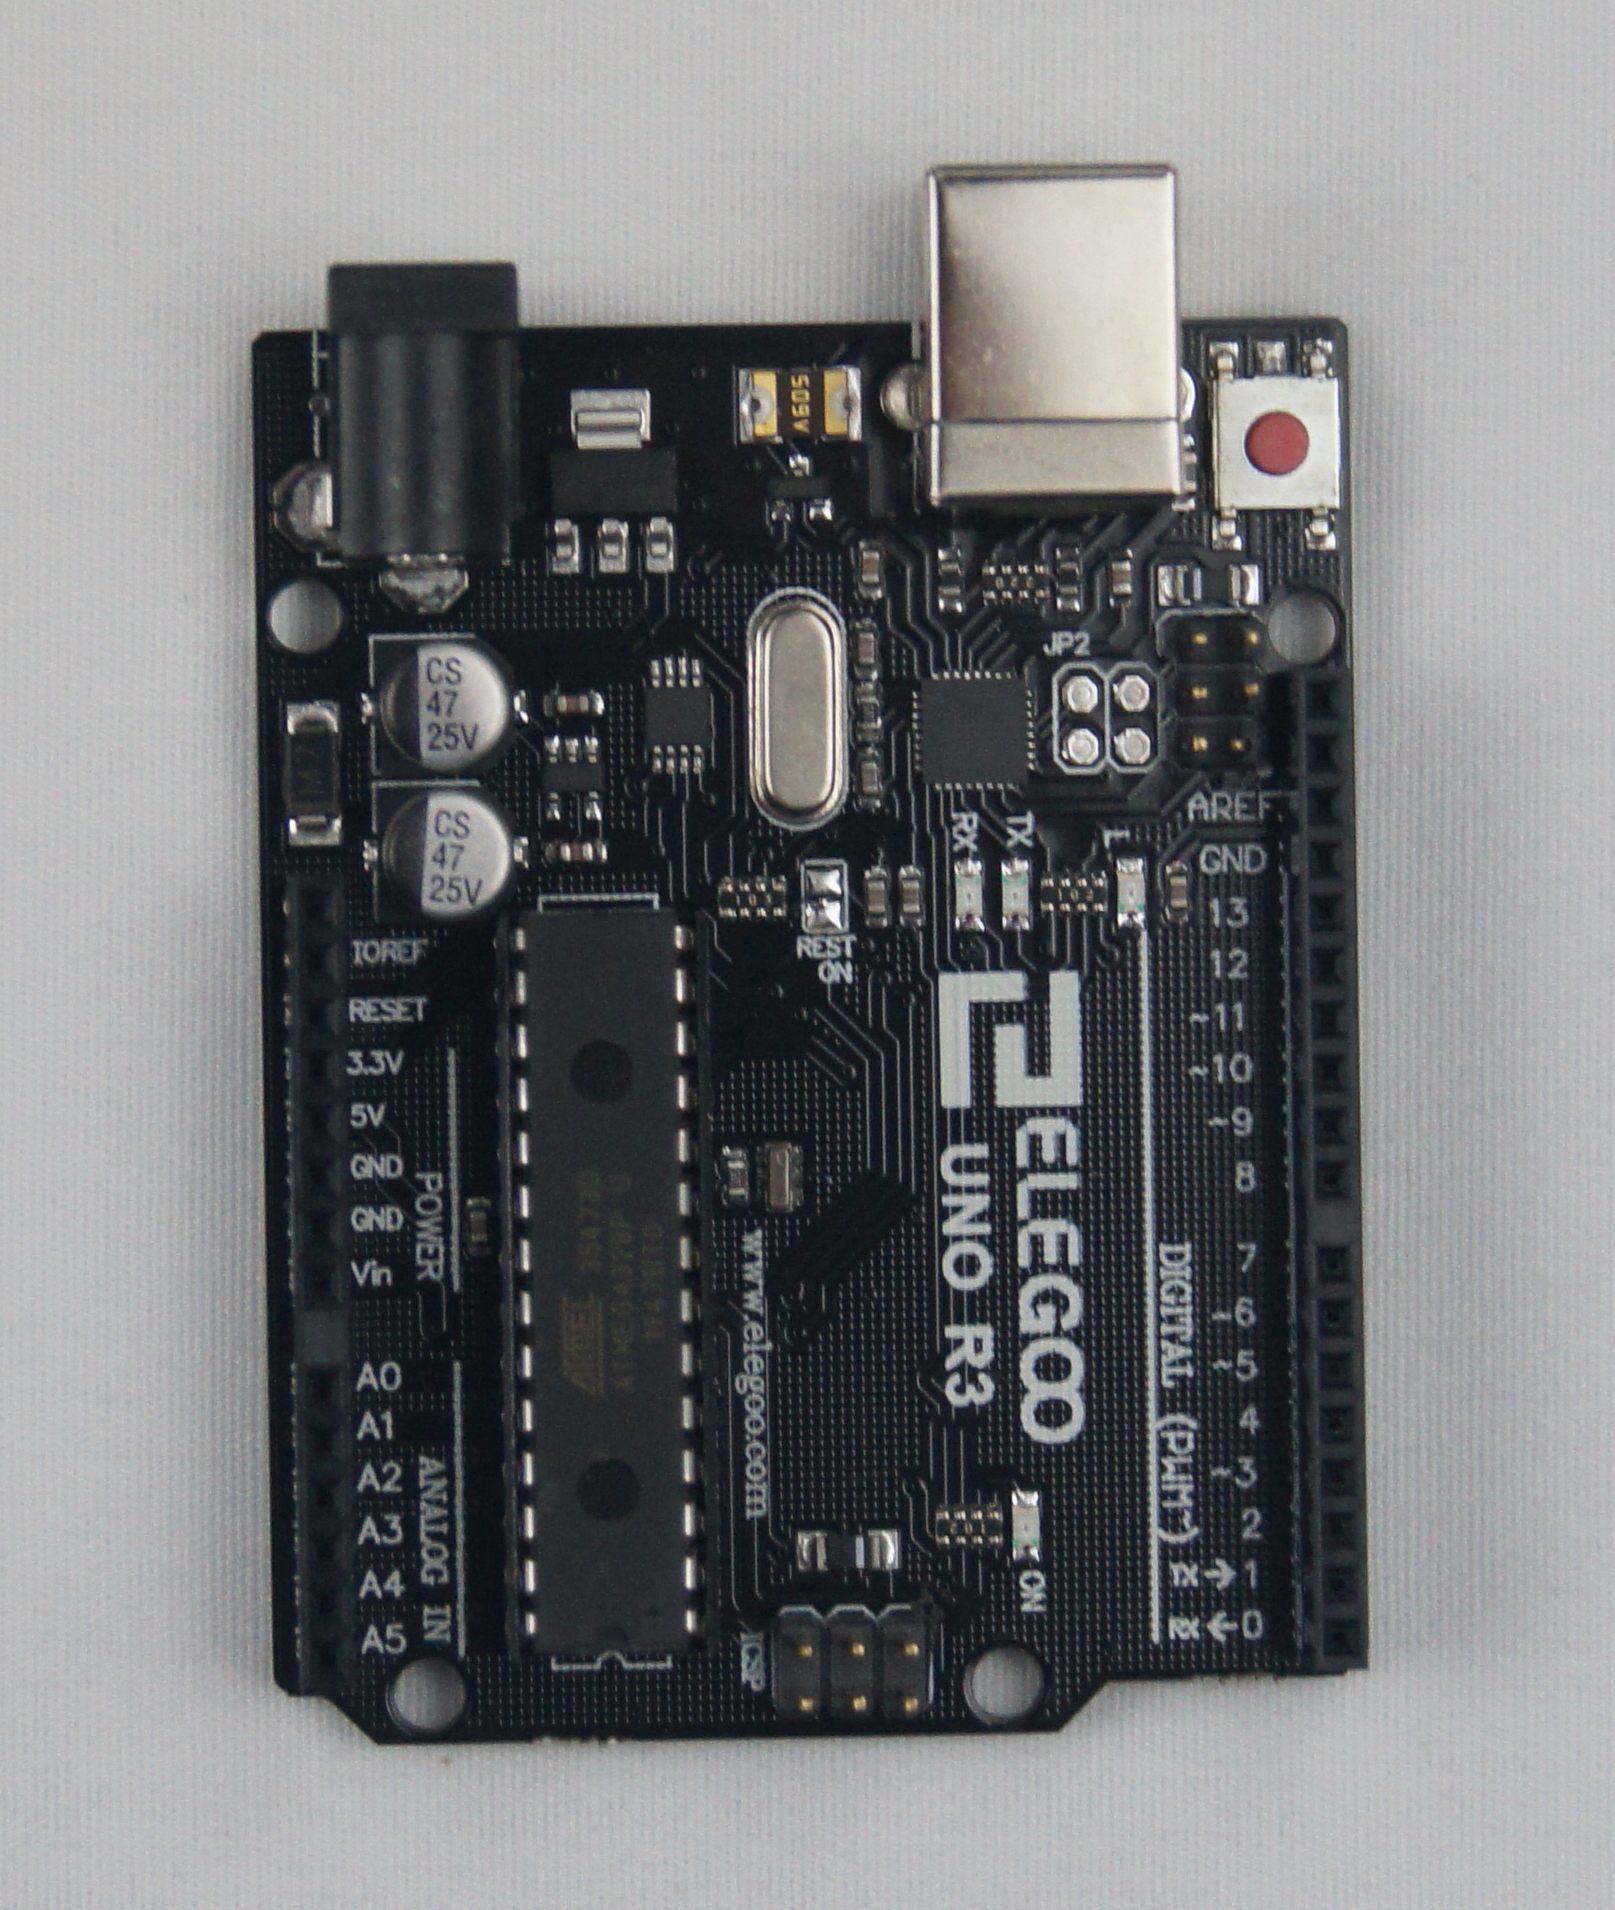kondensator: (373, 779, 518, 915), (364, 636, 506, 753), (859, 868, 889, 923), (852, 540, 883, 585), (551, 841, 612, 864), (1170, 865, 1194, 920), (1109, 558, 1134, 606), (899, 873, 924, 921), (469, 1199, 492, 1251), (856, 628, 880, 668), (857, 760, 876, 804), (548, 695, 590, 715)
